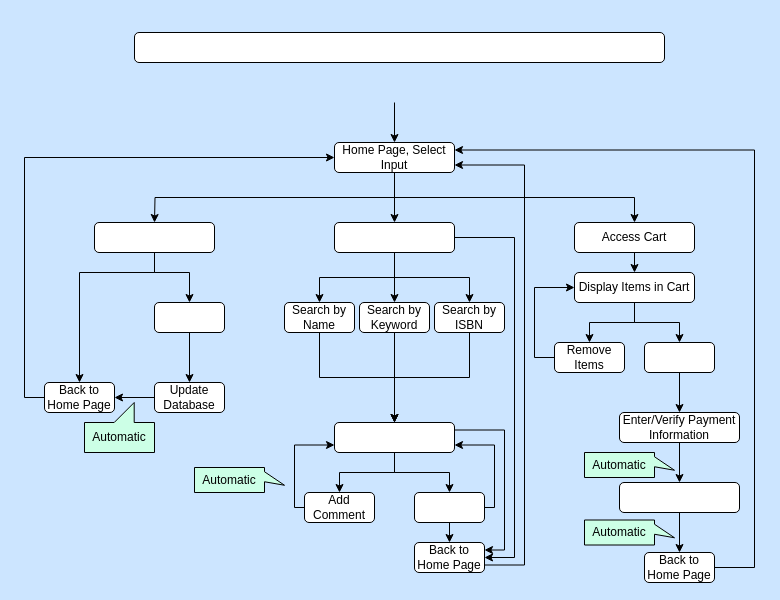
Some shapes in this 780 by 600 pixel diagram are drawn without their labels. The shapes that lost their labels are listed below. From the top down, each one's centre as x and y in pixels, then its label:
the point at 399,47: Activity Diagram: Buyer
the point at 154,237: Account Information
the point at 394,237: Search for Books
the point at 189,317: Change Information
the point at 679,357: Checkout
the point at 394,437: Return List of Relevant Books
the point at 449,507: Add Book to Cart
the point at 679,497: Update Inventory
